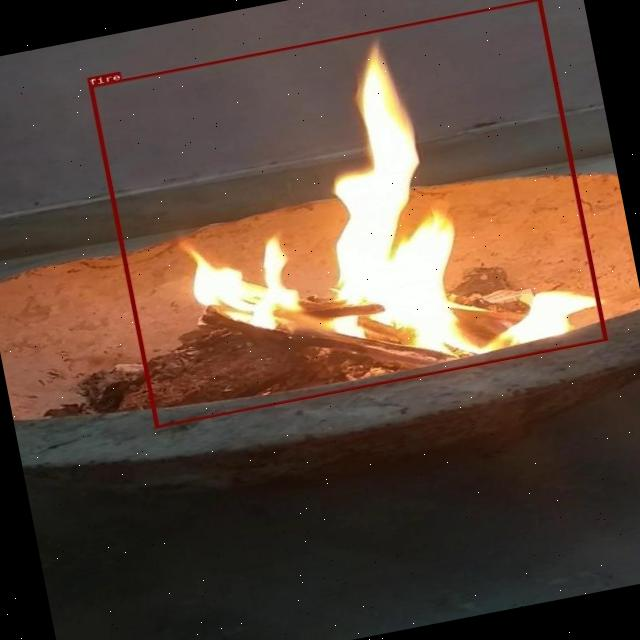fire: (88, 0, 607, 428)
